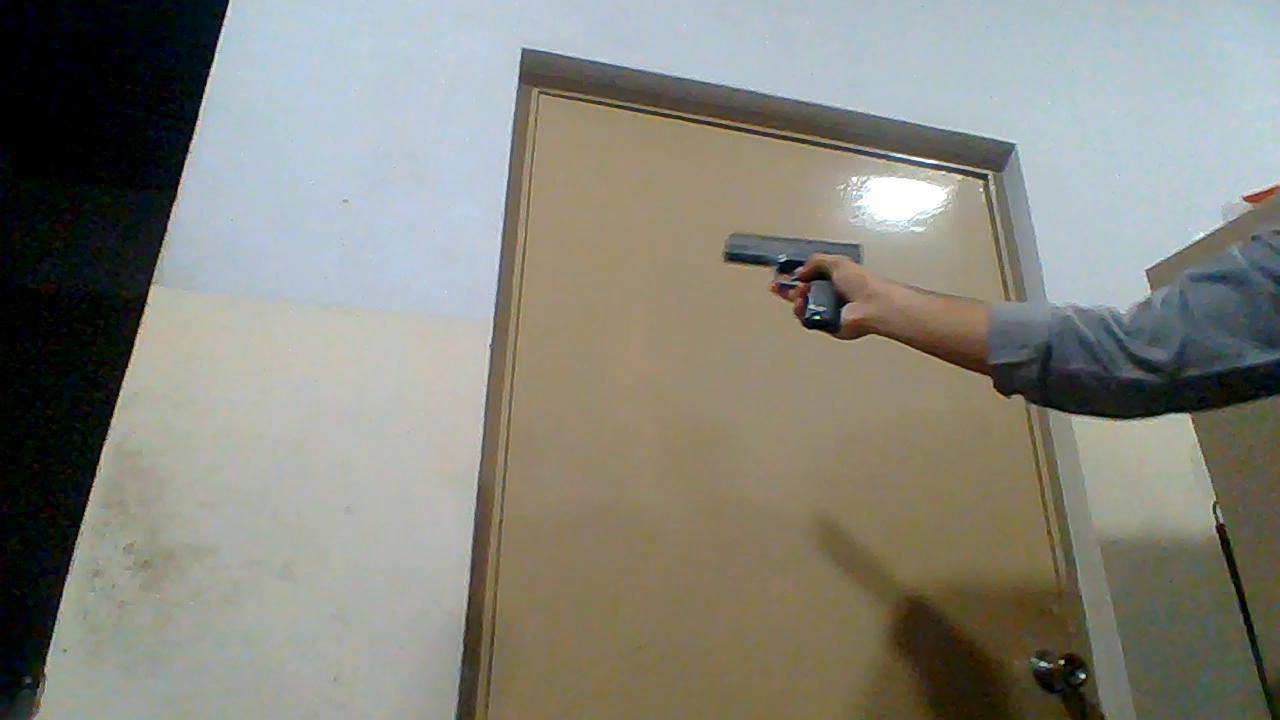weapon: (722, 230, 867, 329)
